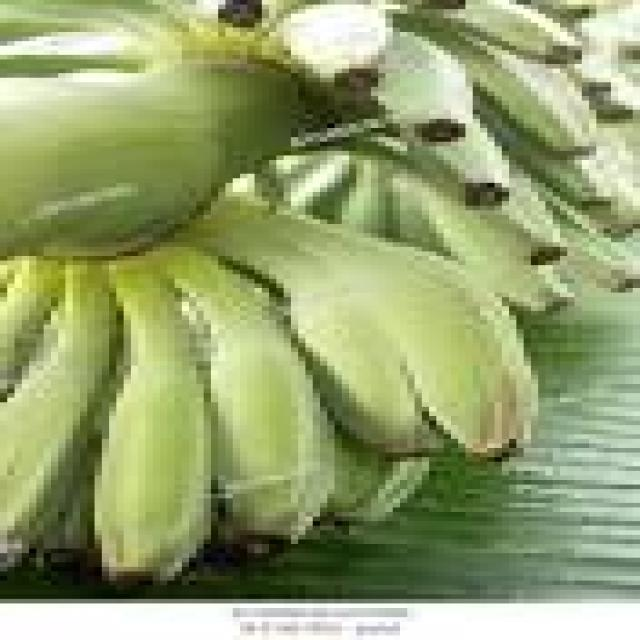banana: (190, 202, 538, 457), (160, 247, 334, 543), (95, 261, 210, 580), (0, 266, 116, 543), (408, 23, 596, 155), (415, 188, 574, 310), (408, 183, 567, 265), (371, 32, 472, 141), (277, 0, 392, 86), (437, 0, 581, 63), (328, 439, 429, 525), (408, 119, 509, 205), (0, 256, 58, 397), (553, 197, 639, 292), (284, 156, 356, 219), (335, 160, 392, 237)
